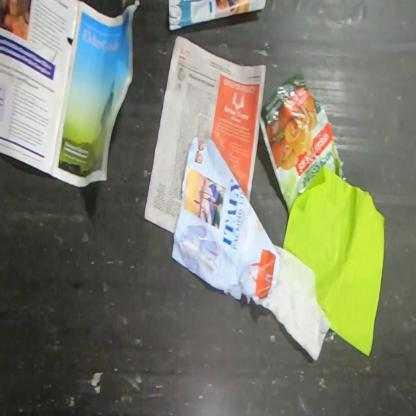soft_plastic: (258, 71, 346, 215)
